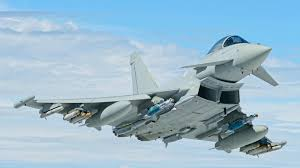fighter: (14, 31, 290, 159)
